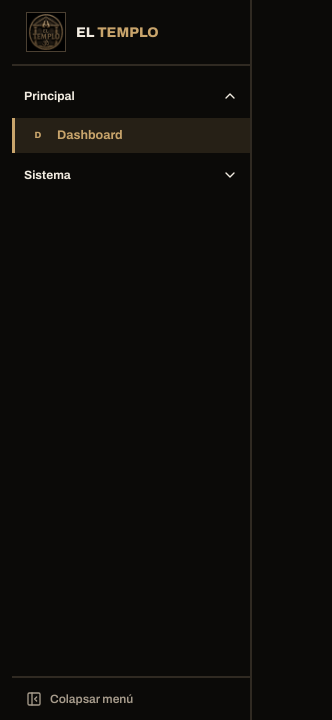
Test: Sidebar — filtrado por permiso y feature › sin permisos, sólo muestra las entradas sin `permission` (Dashboard, Mi cuenta)
The image size is (332, 720).
Check: the element labelled "El Templo" is shown, box [26,12,159,52]
Check: the link "D Dashboard" is shown, box [12,118,250,153]
Step 1. Click the button "Sistema" → (131, 175), box [12,153,250,197]
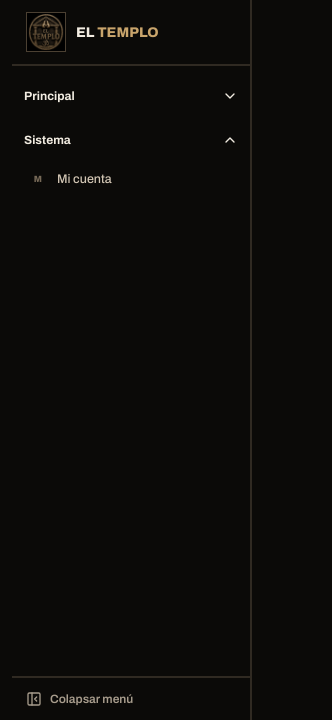
Check: the link "M Mi cuenta" is shown, box [34,172,112,186]
